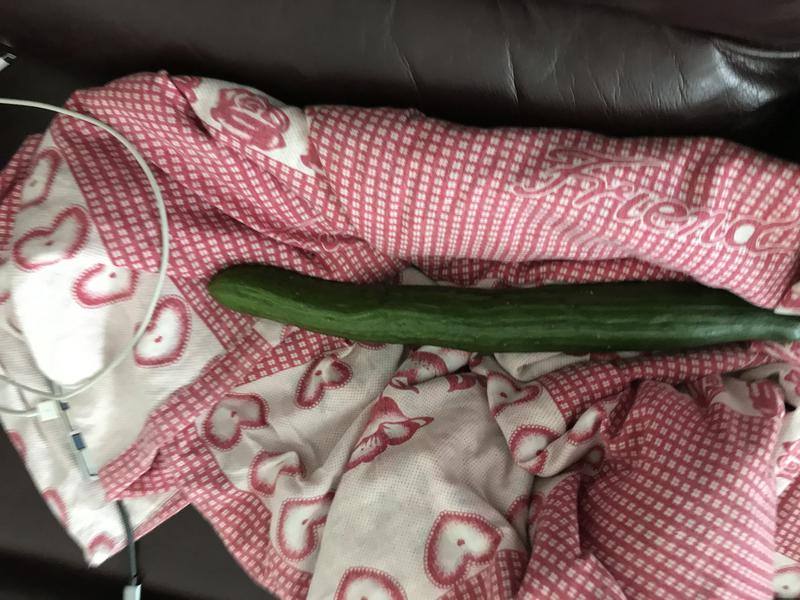cucumber: (198, 254, 800, 373)
